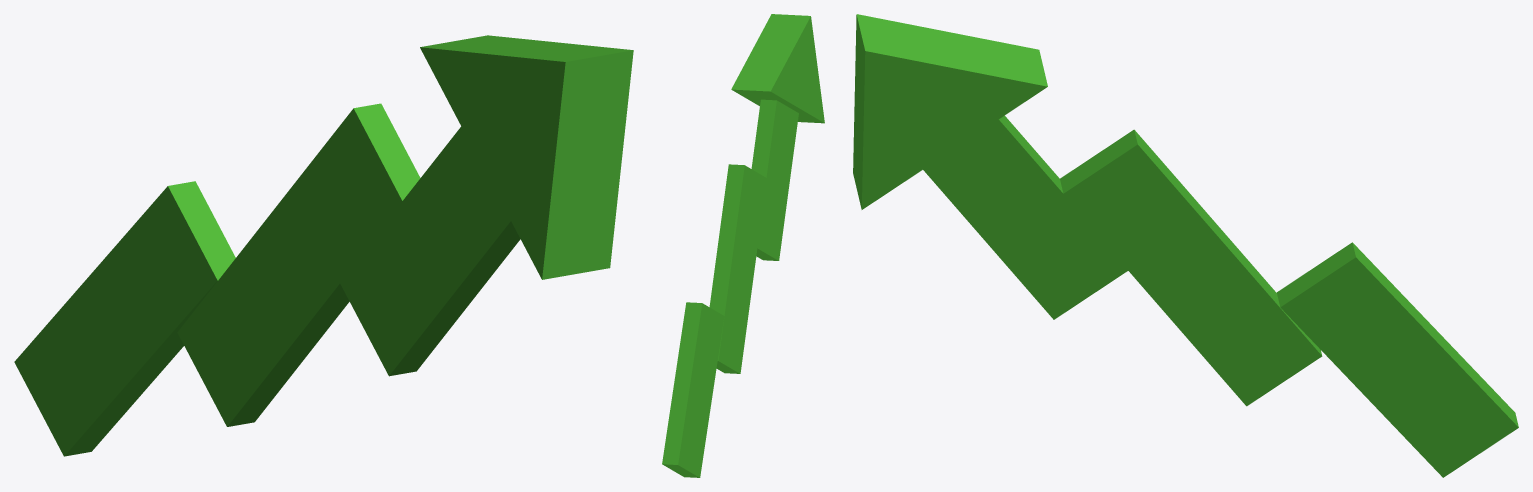
The model's file is airinvst1.glb.
3 renders of one model, left to right at view 1: azimuth 30°, elevation 25°; view 2: azimuth 150°, elevation 25°; view 3: azimuth 270°, elevation 25°, orthographic. The views are drawn at different scales.
Parts seen in each view (by area): view 1: Cube.020, Cube.021; view 2: Cube.020, Cube.021; view 3: Cube.020, Cube.021.
Part boxes in pixels (box(x1,y1,x2,y2)): Cube.020: box(14, 103, 520, 456); Cube.021: box(420, 35, 633, 279); Cube.020: box(662, 99, 798, 477); Cube.021: box(731, 14, 824, 123); Cube.020: box(923, 115, 1518, 477); Cube.021: box(853, 14, 1047, 209).
Bounding box in the file's own units: 7.78 × 21.63 × 25.73.
